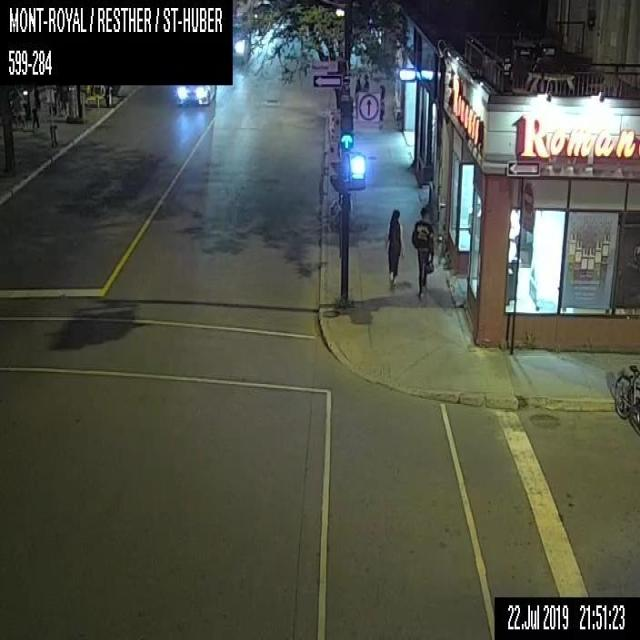construction: (67, 86, 76, 116)
pedestrian: (410, 207, 435, 296), (385, 206, 404, 287), (46, 103, 58, 146), (30, 102, 40, 132), (377, 84, 385, 120), (362, 71, 368, 90), (355, 72, 361, 91)
vehicle: (173, 83, 216, 104), (232, 32, 250, 63)
